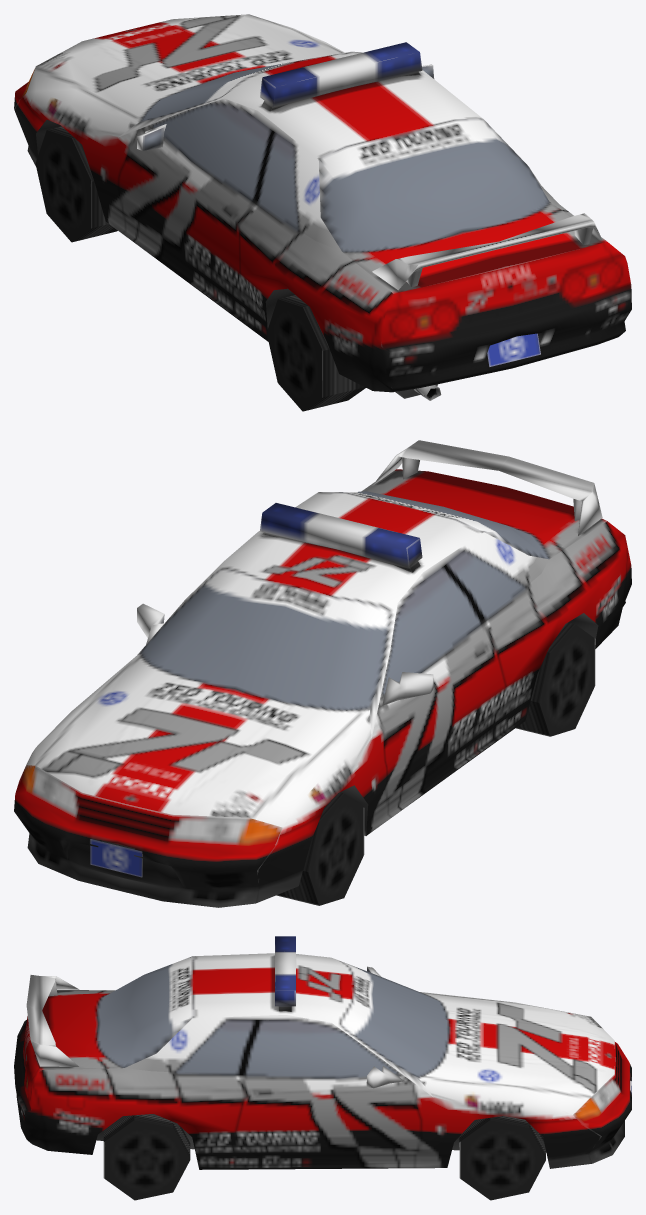
The model's file is fhqDiecast18R32Pace.fbx.
3 views of the same model, one above another, from view 1: azimuth 30°, elevation 25°; view 2: azimuth 150°, elevation 25°; view 3: azimuth 270°, elevation 25° (orthographic). The views are drawn at different scales.
Visible parts, largest first — view 1: fhqR32PacecarExport2; view 2: fhqR32PacecarExport2; view 3: fhqR32PacecarExport2.
Part boxes in pixels (x1,y1,x2,y2): fhqR32PacecarExport2: [14, 14, 631, 411]; fhqR32PacecarExport2: [14, 440, 631, 907]; fhqR32PacecarExport2: [14, 936, 631, 1200].
Size of the model in its own units: 0.2117 by 0.1661 by 0.4991.
